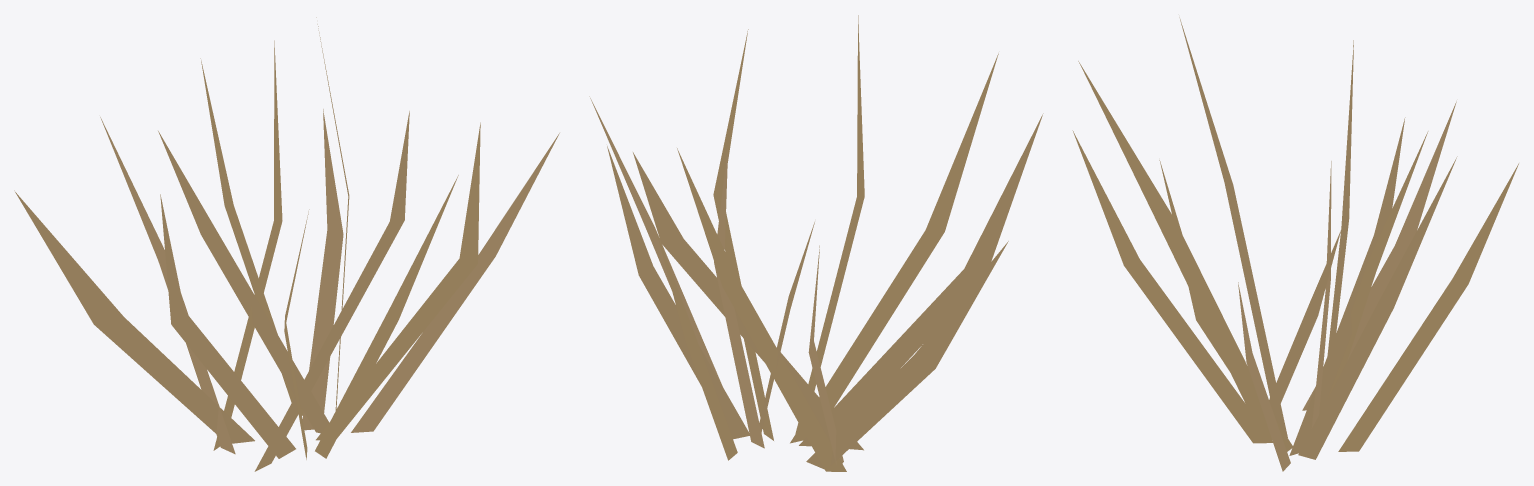
File: Dead_Bush_b_05.fbx
The picture shows the model from 3 angles, left to right: view 1: azimuth 30°, elevation 25°; view 2: azimuth 150°, elevation 25°; view 3: azimuth 270°, elevation 25°; orthographic projection. The views are drawn at different scales.
Visible parts, largest first — view 1: Dead_Bush_b_05; view 2: Dead_Bush_b_05; view 3: Dead_Bush_b_05.
Boxes of the visible parts, x1,y1,x2,y2 form: Dead_Bush_b_05: (14,17,559,471); Dead_Bush_b_05: (589,15,1043,471); Dead_Bush_b_05: (1072,17,1518,471).
Bounding box in the file's own units: 0.8558 × 0.5853 × 0.705.
